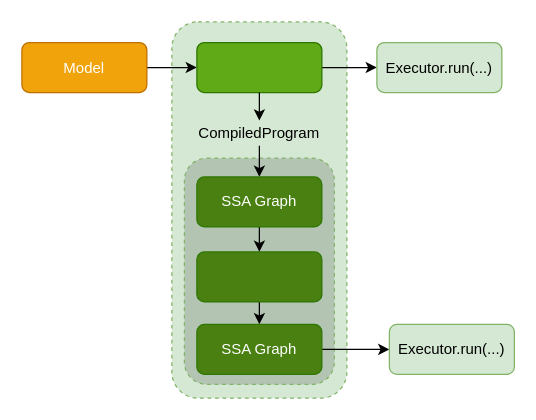
Some shapes in this 536 by 420 pixel diagram are drawn without their labels. Each missing label, with the box of its shape:
PASS: (196, 251, 322, 302)
Program: (196, 41, 322, 92)
